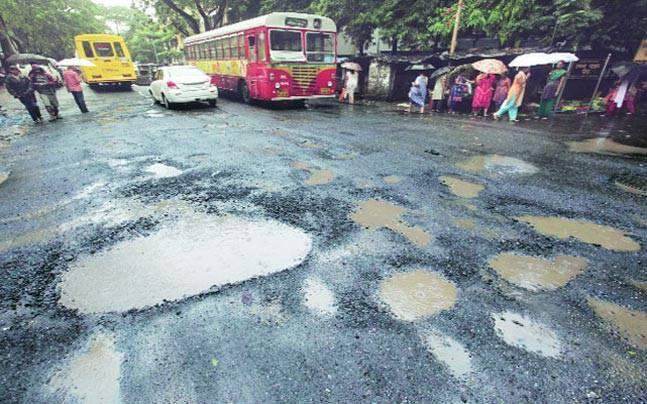pothole: (11, 144, 647, 401)
